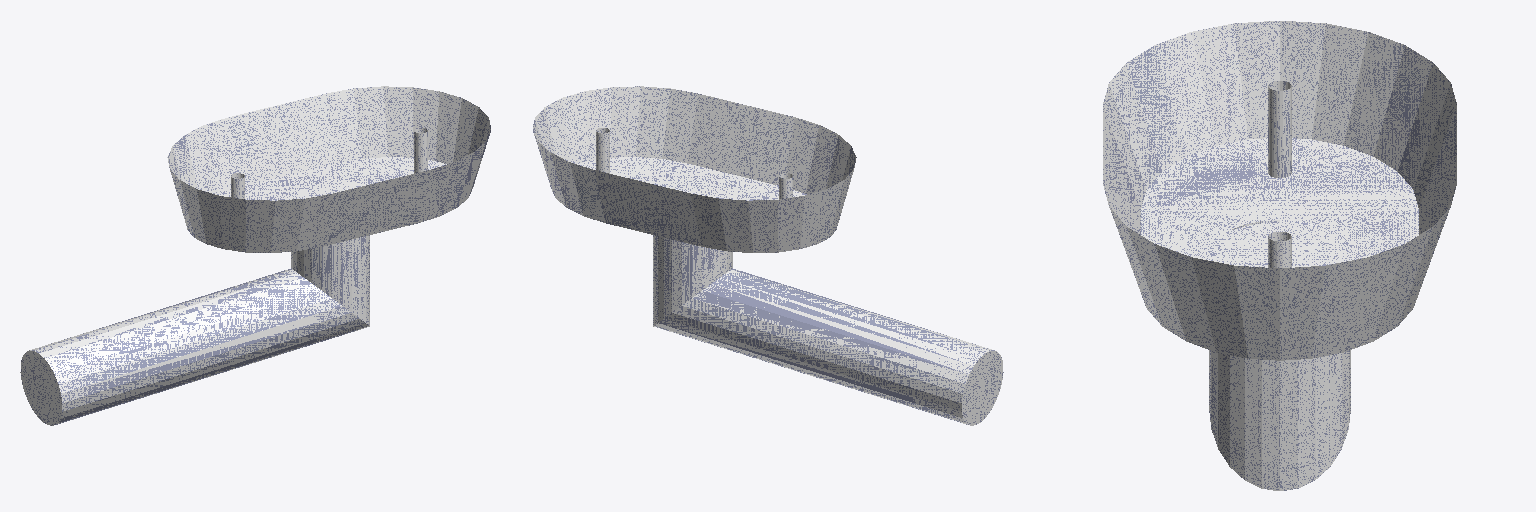
URDF robot description (window):
<?xml version="1.0" ?>
<robot name="window">
	<link name="base"/>
	<link name="link_0">
		<visual name="out-frame">
			<origin xyz="0 0 0"/>
			<geometry>
				<mesh filename="texture_dae/untitled.dae" scale="1 1 1"/>
			</geometry>
		</visual>
		<collision>
			<origin xyz="0 0 0"/>
			<geometry>
				<mesh filename="texture_dae/untitled.dae" scale="1 1 1"/>
			</geometry>
		</collision>
	</link>
	<joint name="joint_0" type="fixed">
		<origin rpy="1.570796326794897 0 -1.570796326794897" xyz="0 0 0"/>
		<child link="link_0"/>
		<parent link="base"/>
	</joint>
	<link name="link_1">
		<visual name="surf-board">
			<origin xyz="0.23565320670604706 -0.34836465252022536 0"/>
			<geometry>
				<mesh filename="texture_dae/untitled1.dae" scale="1 1 1"/>
			</geometry>
		</visual>
		<collision>
			<origin xyz="0.23565320670604706 -0.34836465252022536 0"/>
			<geometry>
				<mesh filename="texture_dae/untitled1.dae" scale="1 1 1"/>
			</geometry>
		</collision>
	</link>
	<joint name="joint_1" type="revolute">
		<origin xyz="-0.23565320670604706 0.34836465252022536 0"/>
		<axis xyz="0 -1 0"/>
		<child link="link_1"/>
		<parent link="link_0"/>
		<limit lower="0" upper="1.5079644737231006"/>
	</joint>
	<link name="link_2">
		<visual name="handle">
			<origin xyz="0 0 0"/>
			<geometry>
				<mesh filename="texture_dae/9969519-handle.dae" scale="2.763714889842729 2.763714889842729 2.763714889842729"/>
			</geometry>
		</visual>
		<collision>
			<origin xyz="0 0 0"/>
			<geometry>
				<mesh filename="texture_dae/9969519-handle.dae" scale="2.763714889842729 2.763714889842729 2.763714889842729"/>
			</geometry>
		</collision>
	</link>
	<joint name="joint_2" type="revolute">
		<origin xyz="0 0 0"/>
		<child link="link_2"/>
		<parent link="link_3"/>
		<axis xyz="0 0 1"/>
		<limit lower="0" upper="1.5079644737231006"/>
	</joint>
	<link name="link_3">
		<visual name="lock">
			<origin xyz="0 0 0"/>
			<geometry>
				<mesh filename="texture_dae/9969519-lock.dae" scale="2.763714889842729 2.763714889842729 2.763714889842729"/>
			</geometry>
		</visual>
		<collision>
			<origin xyz="0 0 0"/>
			<geometry>
				<mesh filename="texture_dae/9969519-lock.dae" scale="2.763714889842729 2.763714889842729 2.763714889842729"/>
			</geometry>
		</collision>
	</link>
	<joint name="joint_3" type="fixed">
		<origin xyz="0.44409596992656586 -0.34836465252022536 0.00917094583565014"/>
		<child link="link_3"/>
		<parent link="link_1"/>
	</joint>
</robot>

--- Facts derived from the render (not from the file) ---
Views: 3 orthographic renders of the robot side by side, from view 1: azimuth 30°, elevation 25°; view 2: azimuth 150°, elevation 25°; view 3: azimuth 270°, elevation 25°.
Model window with 5 links and 4 joints (2 revolute, 2 fixed), rooted at base, posed all joints at 0.
Links seen in each view (by area): view 1: link_3, link_2; view 2: link_3, link_2; view 3: link_3, link_2.
Boxes of the visible links, left/top/right/bottom form: link_3: left=167, top=86, right=490, bottom=252; link_2: left=20, top=187, right=369, bottom=425; link_3: left=533, top=86, right=856, bottom=252; link_2: left=653, top=187, right=1003, bottom=425; link_3: left=1103, top=21, right=1456, bottom=360; link_2: left=1209, top=220, right=1350, bottom=490.
Size in the robot's own frame: 0.2028 by 0.0833 by 0.0923 metres.
2 mesh visuals loaded from 4 distinct referenced files (2 Collada DAE); not drawn: 2 (reference not matched to a file when rendering).
